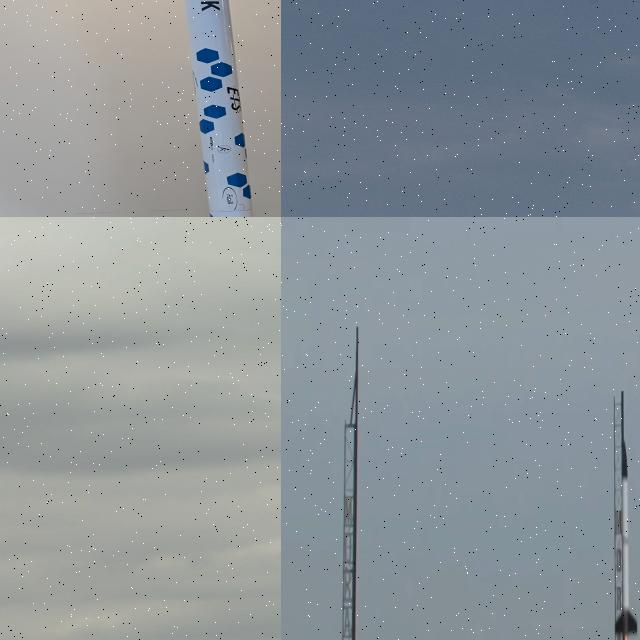Rocket: (183, 0, 254, 217), (615, 438, 638, 640)
